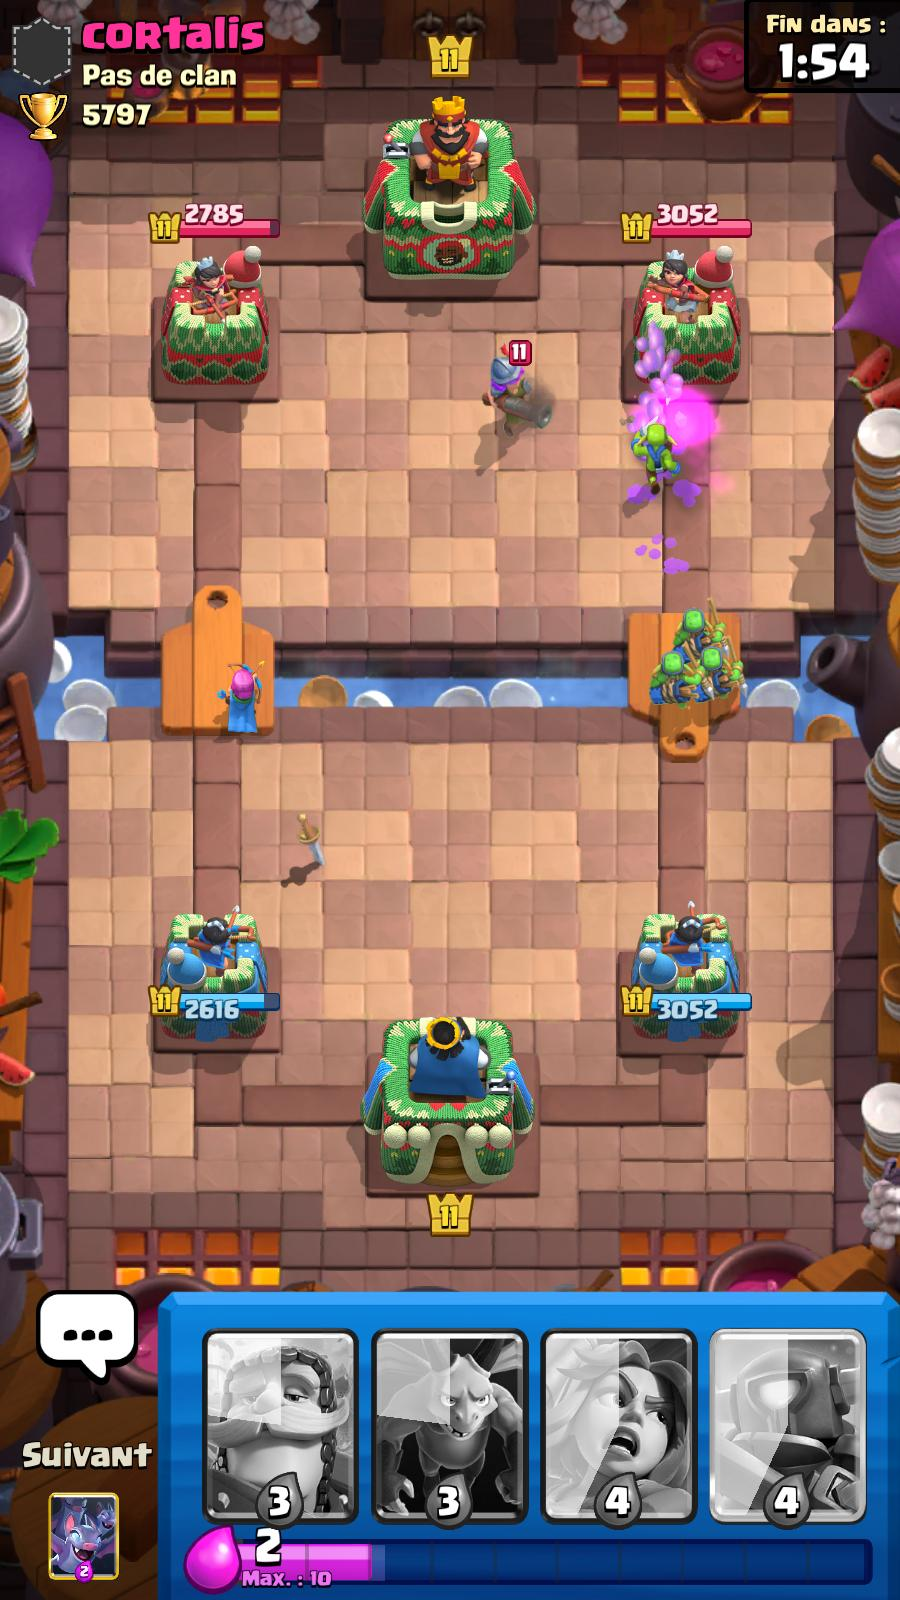archere: (216, 656, 276, 740)
gobelin: (633, 414, 687, 498)
gobelin_lances: (674, 603, 730, 681), (652, 644, 701, 716), (691, 643, 749, 704)
mousquetaire: (481, 340, 558, 438)
